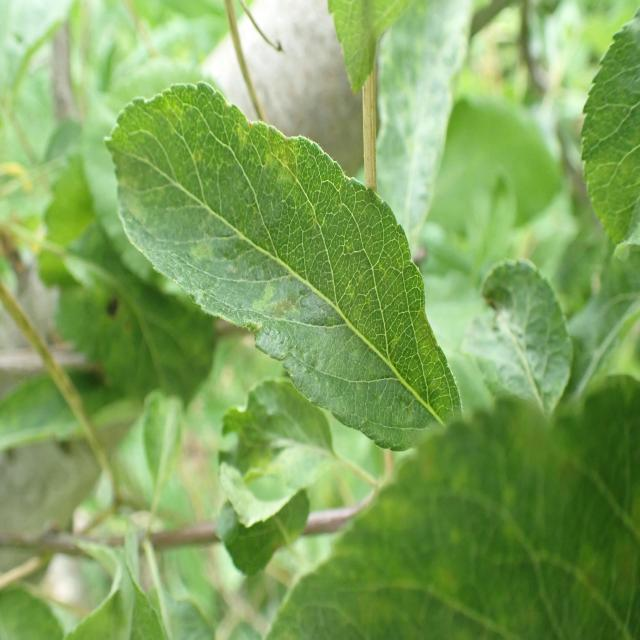scab: (118, 114, 406, 363)
